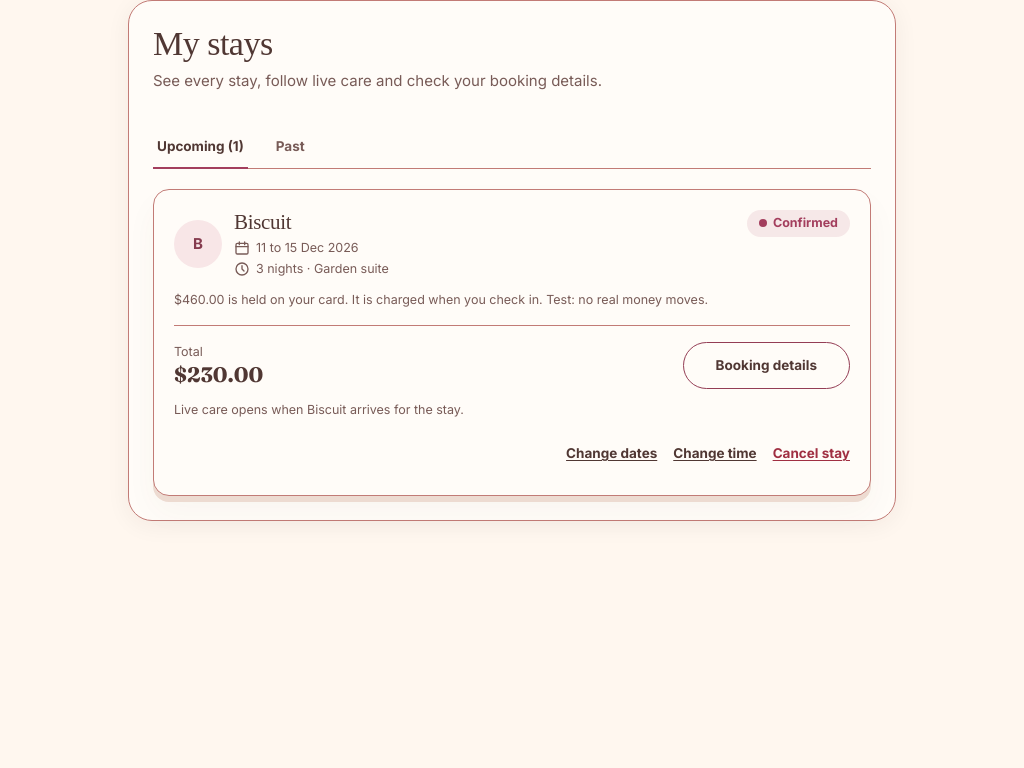
Scenario: My Stays with a saved card › names the full nights when the new dates have no room
The width and height of the screenshot is (1024, 768).
Click the button "Change dates" at (612, 453), box [566,431,657,475]
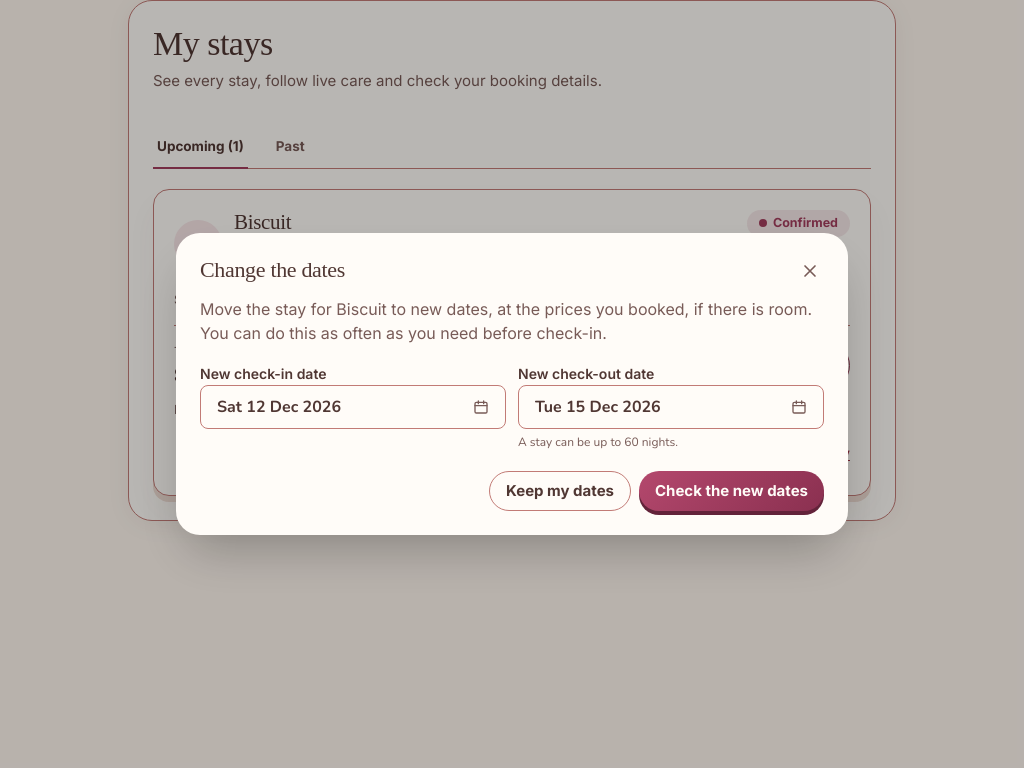
Click the button "Check the new dates" at (732, 491), box [639,471,824,511]
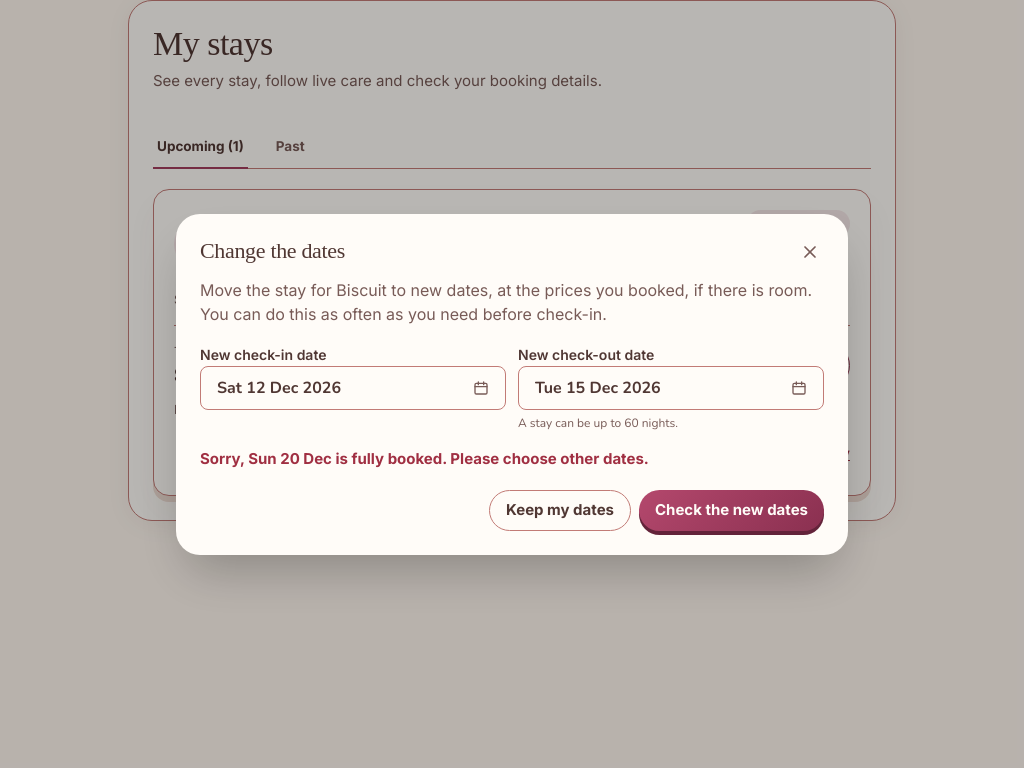
Expected: the message reads "Sorry, Sun 20 Dec is fully booked. Please choose other dates.", [200,448,649,468]
